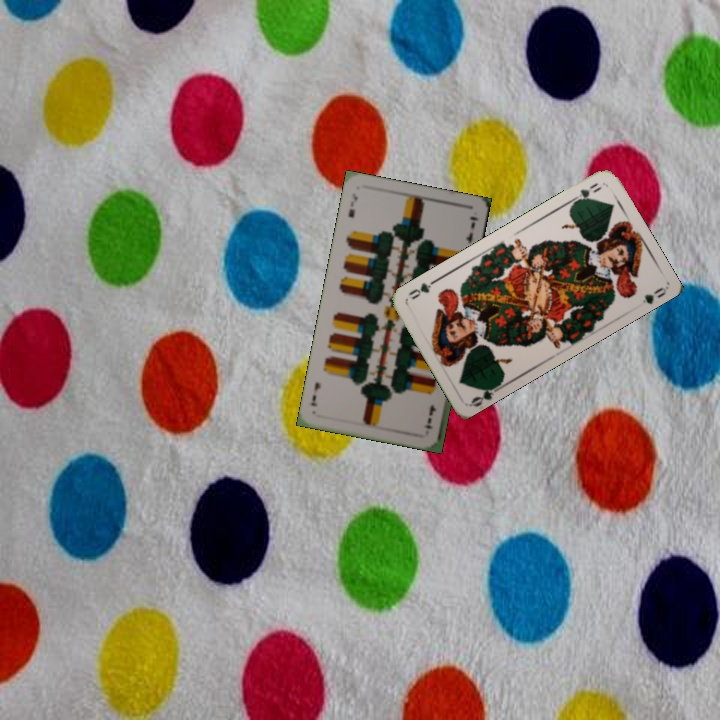E7: (344, 189, 360, 221), (422, 401, 439, 431)
GO: (467, 380, 505, 409), (567, 179, 604, 207)
